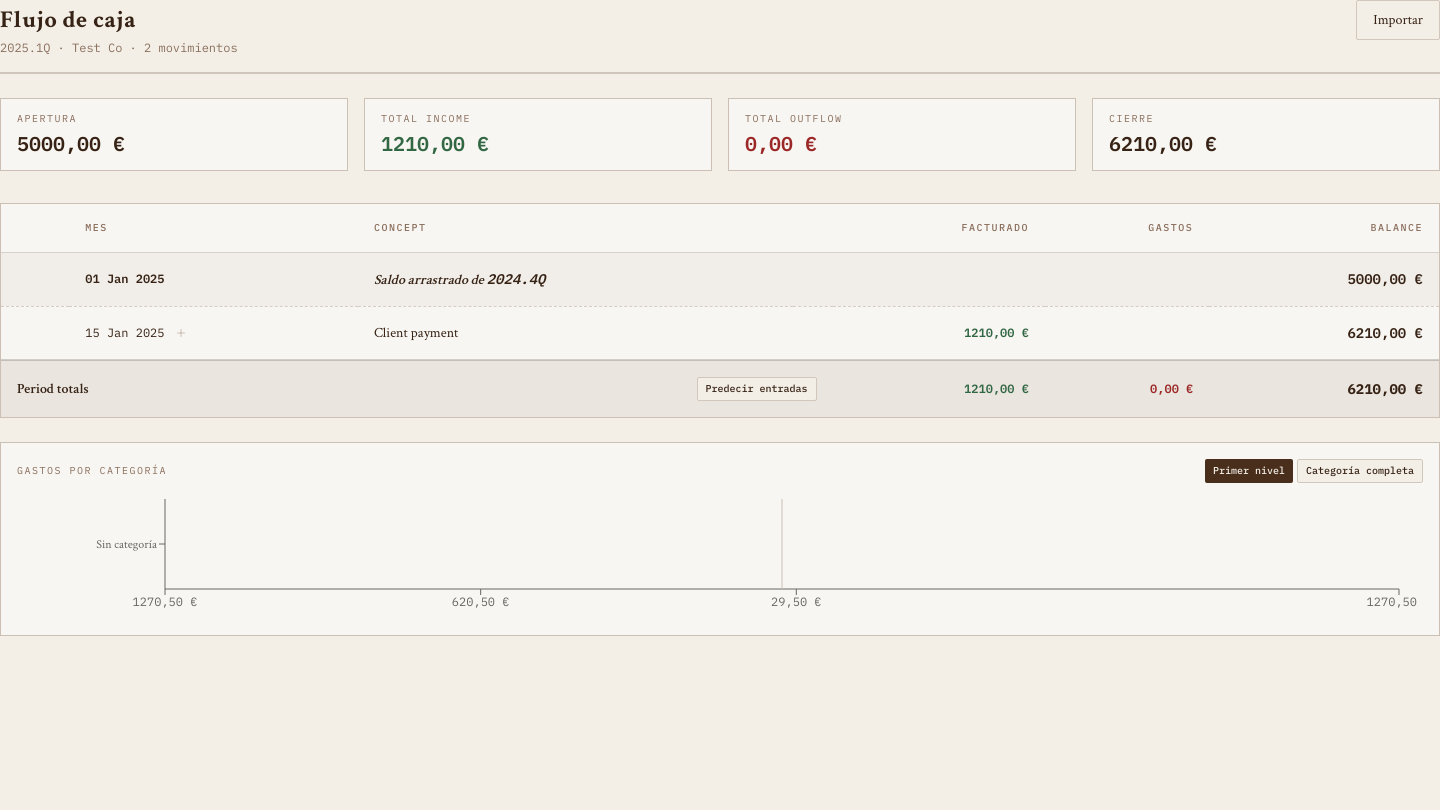
Test: CashflowView › lists available CSV files in the import dialog
The width and height of the screenshot is (1440, 810).
Click the button "Importar" at (1398, 20), box x1=1356 y1=0 x2=1439 y2=40
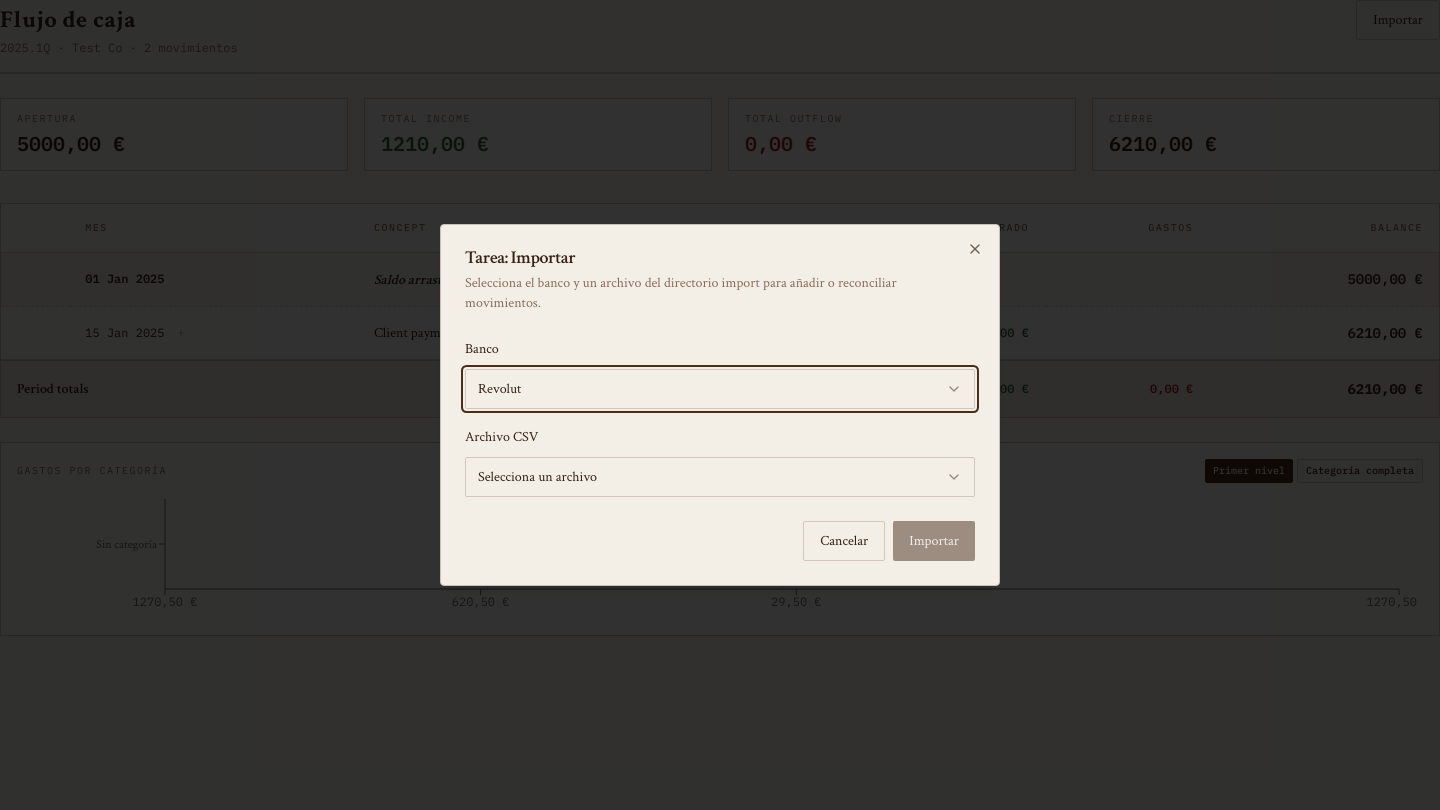
Press ArrowDown in the dropdown labelled "Selecciona un archivo", box x1=465 y1=457 x2=975 y2=497
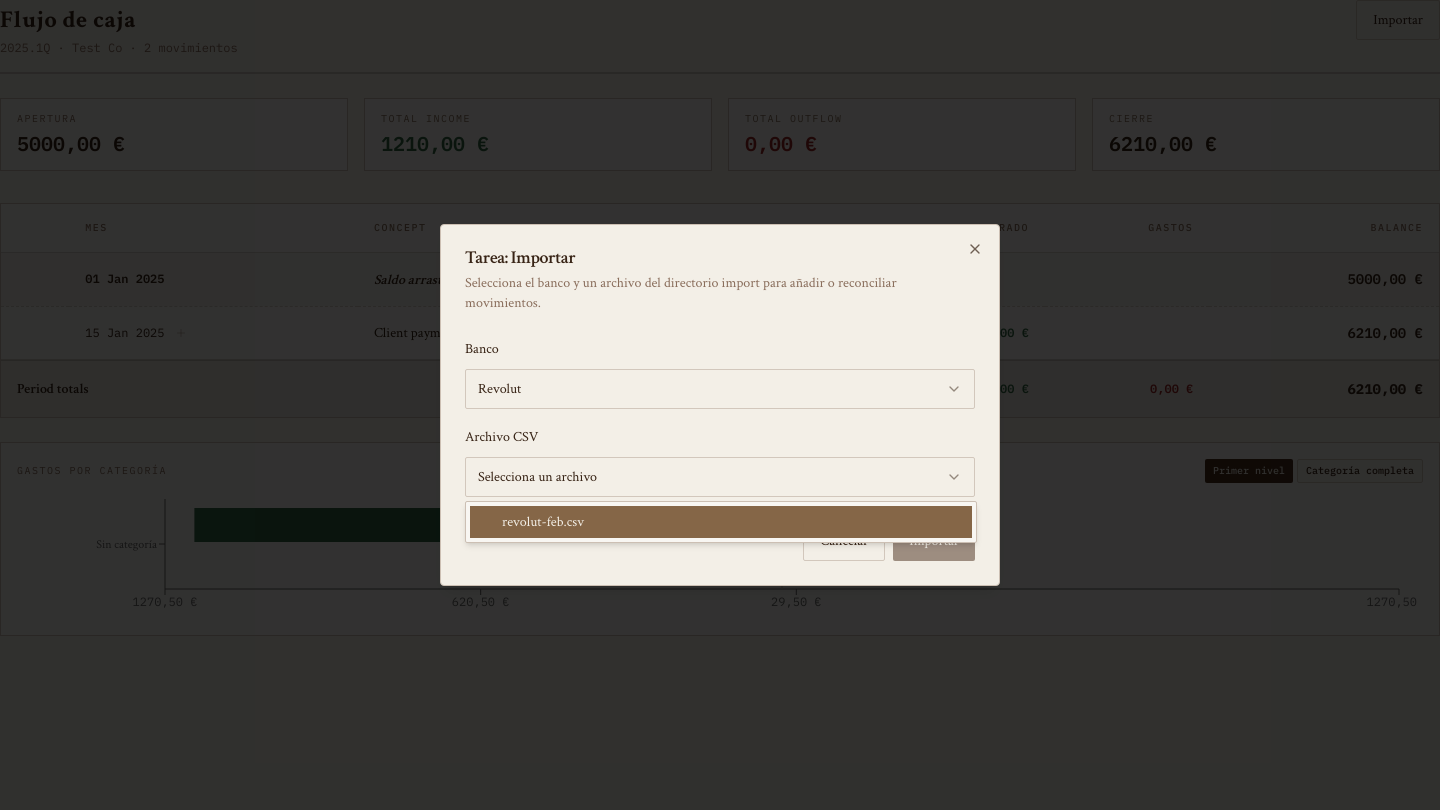
Now the option "revolut-feb.csv" is shown, box x1=470 y1=506 x2=972 y2=538
